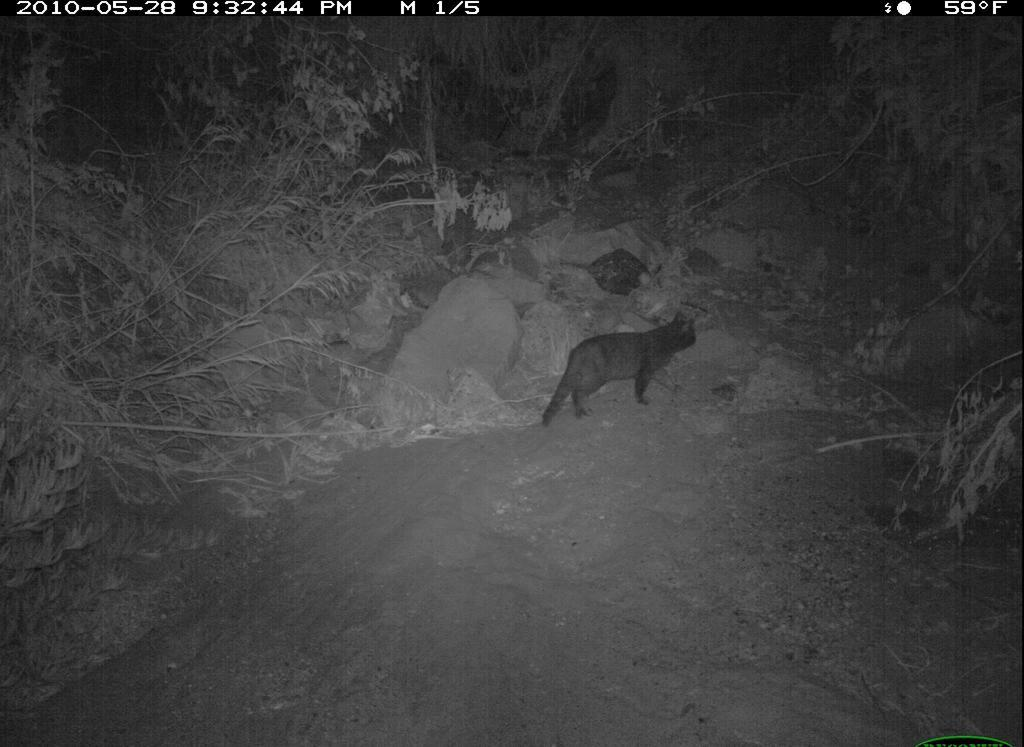cat: (537, 306, 706, 432)
